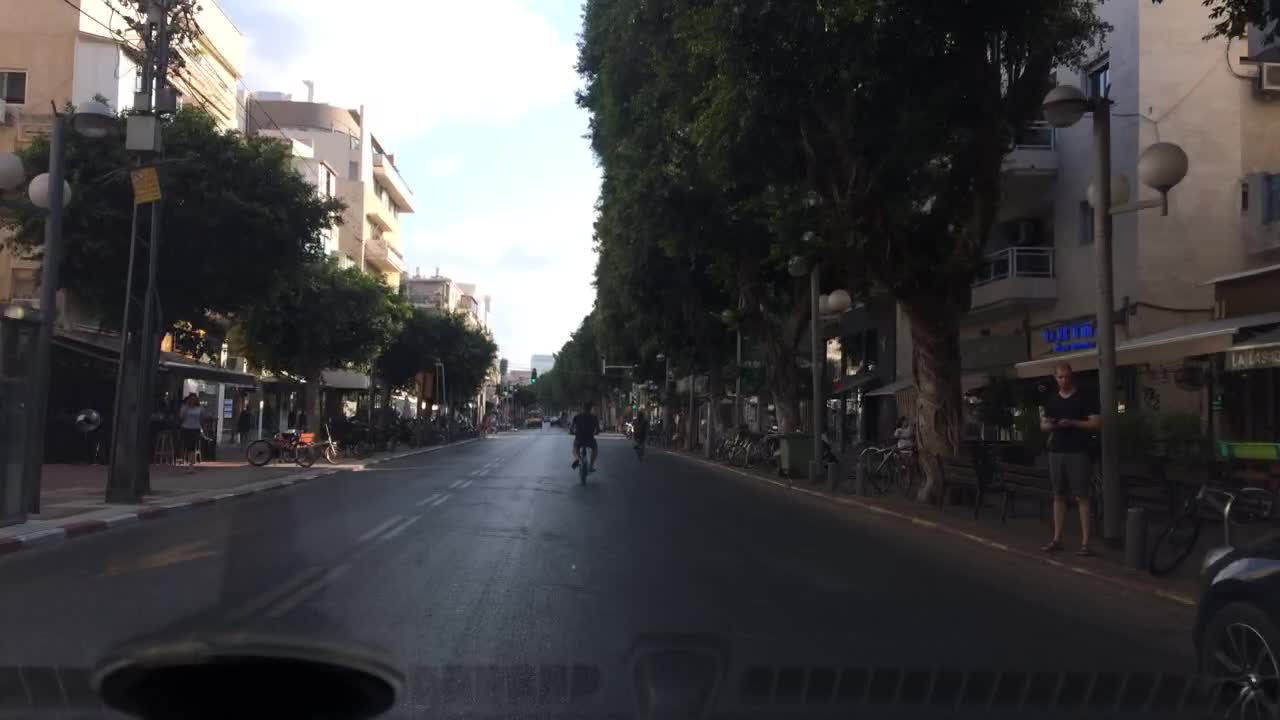bike: (1146, 472, 1277, 577), (242, 427, 318, 469), (860, 444, 916, 498), (282, 421, 345, 465), (860, 434, 916, 471), (316, 429, 376, 459), (568, 429, 599, 483), (725, 432, 764, 467), (632, 433, 650, 464)
car: (1188, 528, 1277, 713), (563, 405, 582, 429), (525, 409, 545, 429), (550, 416, 561, 425), (542, 413, 551, 423)
person: (1032, 358, 1101, 559), (175, 391, 210, 475), (891, 413, 913, 447), (237, 400, 251, 437), (392, 410, 402, 437), (296, 406, 307, 430), (655, 415, 665, 441), (667, 415, 676, 443), (285, 408, 296, 430), (403, 412, 413, 434), (398, 414, 406, 432)
rider: (568, 400, 601, 474), (628, 408, 649, 452)
traffic light: (529, 369, 537, 383)
traffic sign: (129, 166, 162, 205)
